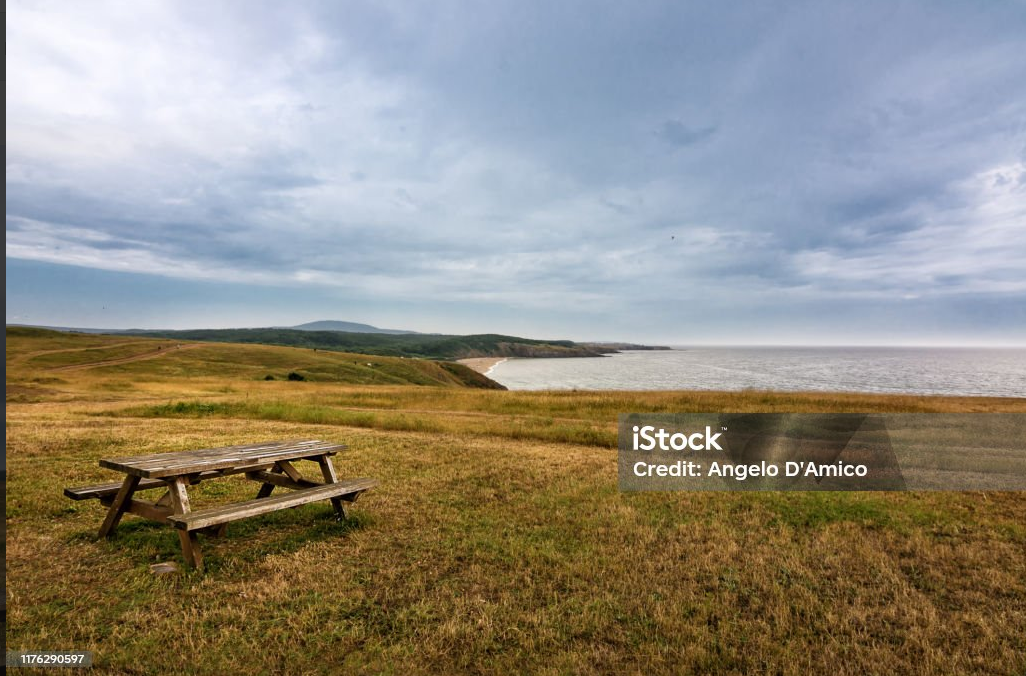obstacle: (66, 441, 377, 557)
